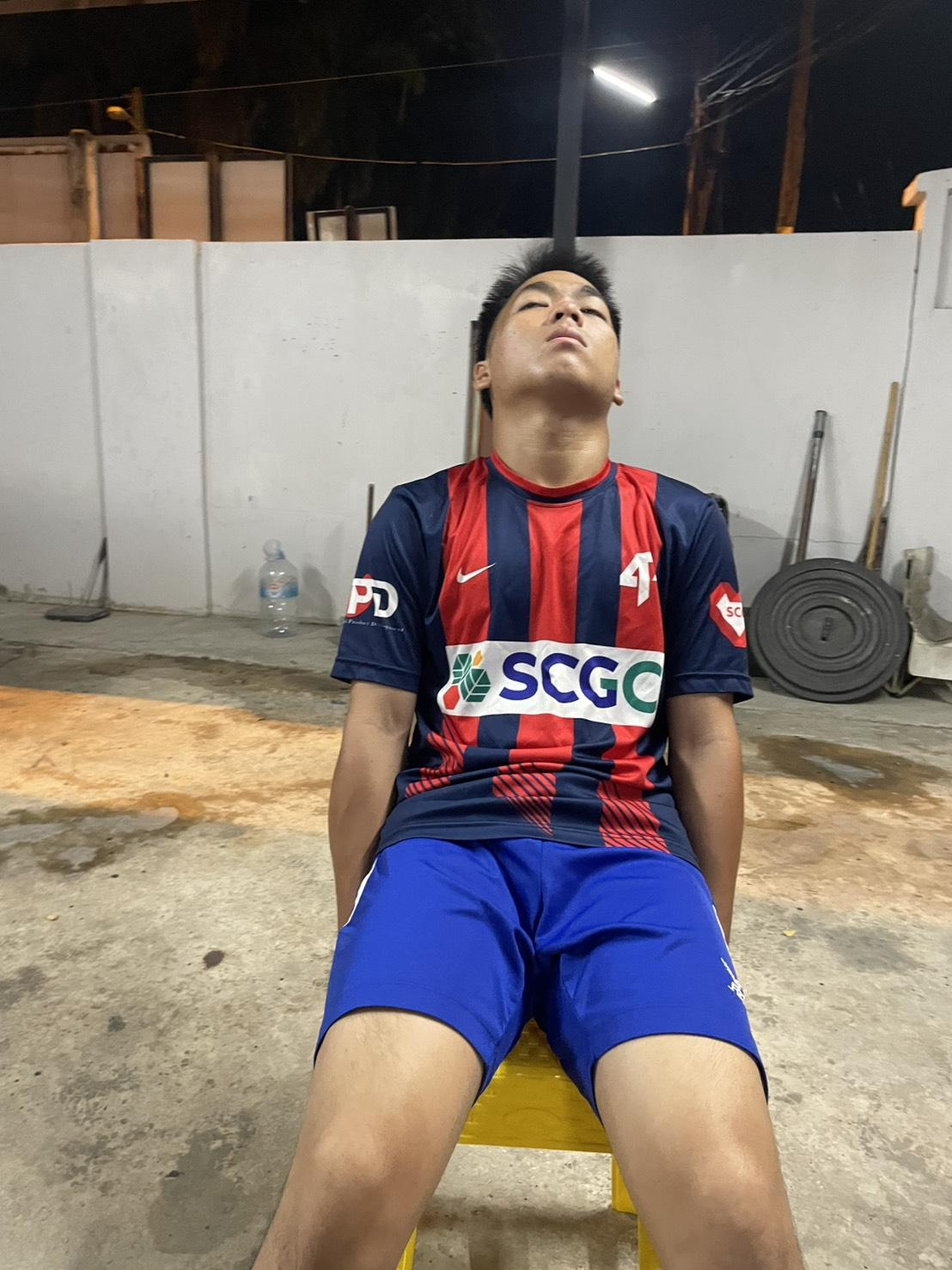BadPosture: (334, 246, 750, 868)
